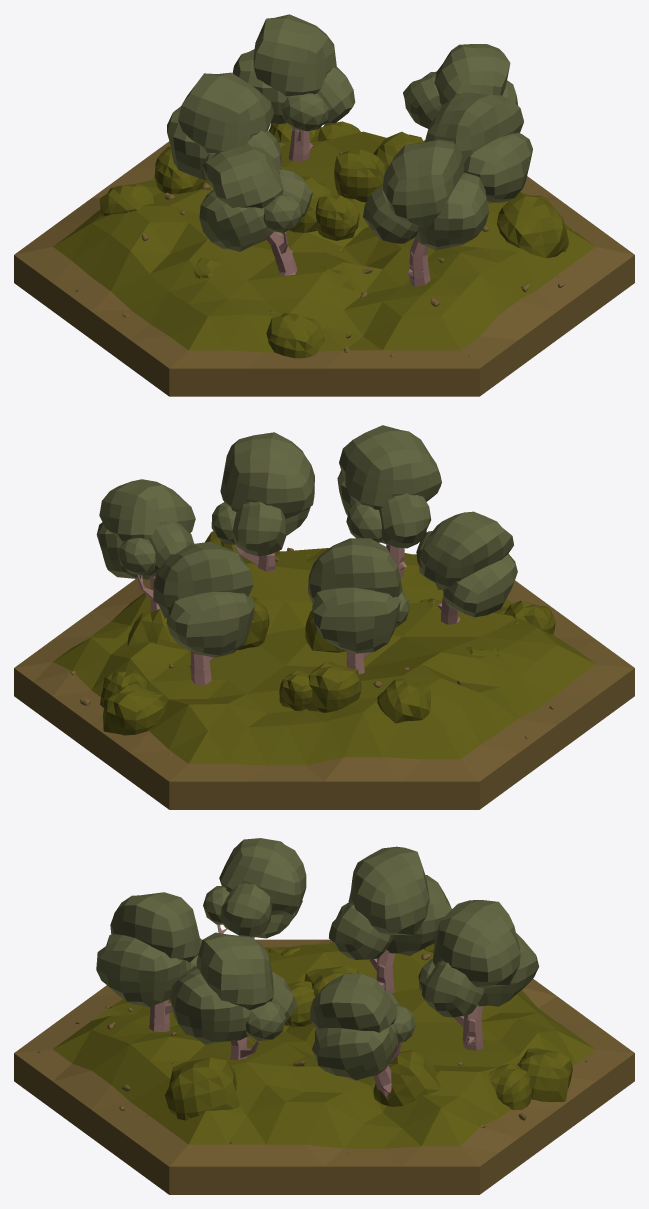
The model's file is tropicalRainforest.glb.
3 renders of one model, top to bottom at view 1: azimuth 30°, elevation 25°; view 2: azimuth 150°, elevation 25°; view 3: azimuth 270°, elevation 25°, orthographic.
Visible parts, largest first — view 1: land, trees, bushes, rocks; view 2: land, trees, bushes; view 3: land, trees, bushes.
Boxes of the visible parts, left/top/right/bottom form: land: left=14, top=131, right=634, bottom=396; trees: left=167, top=14, right=532, bottom=286; bushes: left=100, top=121, right=568, bottom=358; rocks: left=75, top=140, right=574, bottom=357; land: left=14, top=548, right=634, bottom=809; trees: left=96, top=425, right=517, bottom=685; bushes: left=100, top=531, right=555, bottom=735; land: left=14, top=939, right=634, bottom=1194; trees: left=96, top=838, right=539, bottom=1096; bushes: left=165, top=943, right=572, bottom=1120.
Size of the model in its own units: 1.73 by 0.6945 by 2.
